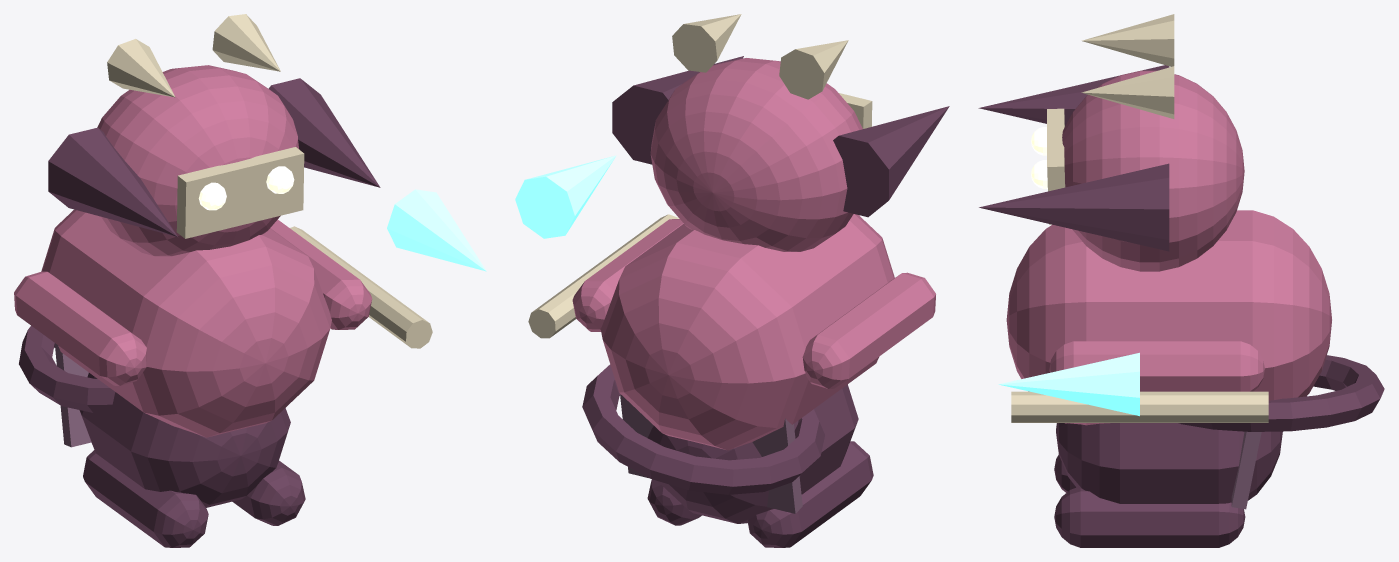
The model's file is monster-imp-nextgen.glb.
The picture shows the model from 3 angles, left to right: view 1: azimuth 30°, elevation 25°; view 2: azimuth 150°, elevation 25°; view 3: azimuth 270°, elevation 25°; orthographic projection.
Parts seen in each view (by area): view 1: body, head, pelvis, armL, earL, mask, legL, earR, signature, tail, armR, weapon (+6 smaller); view 2: body, head, tail, armL, pelvis, earL, legL, signature, earR, armR, hornL, hornR (+4 smaller); view 3: body, head, pelvis, earR, legR, armR, weapon, tail, signature, hornL, hornR, earL (+2 smaller).
Part boxes in pixels (box(x1,y1,x2,y2)): body: box(41, 209, 331, 437); head: box(97, 65, 298, 256); pelvis: box(79, 373, 290, 507); armL: box(14, 271, 146, 385); earL: box(48, 127, 177, 236); mask: box(176, 147, 304, 238); legL: box(83, 450, 208, 547); earR: box(268, 78, 380, 187); signature: box(387, 189, 486, 271); tail: box(19, 325, 115, 412); armR: box(270, 219, 372, 329); weapon: box(290, 226, 432, 348); body: box(601, 214, 894, 450); head: box(650, 58, 862, 251); tail: box(582, 364, 824, 494); armL: box(802, 272, 935, 388); pelvis: box(648, 384, 858, 523); earL: box(833, 106, 949, 217); legL: box(747, 441, 873, 547); signature: box(515, 155, 616, 238); earR: box(612, 56, 743, 164); armR: box(572, 219, 683, 331); hornL: box(779, 40, 848, 99); hornR: box(672, 14, 741, 72); body: box(1006, 210, 1331, 425); head: box(1062, 70, 1244, 271); pelvis: box(1056, 423, 1282, 503); earR: box(979, 163, 1169, 251); legR: box(1054, 487, 1245, 547); armR: box(1049, 341, 1264, 391); weapon: box(1011, 391, 1268, 422); tail: box(1178, 355, 1384, 431); signature: box(998, 352, 1139, 416); hornL: box(1081, 14, 1174, 66); hornR: box(1081, 66, 1174, 118); earL: box(978, 65, 1169, 125).
Size of the model in its own units: 1.82 by 2.15 by 1.66.
